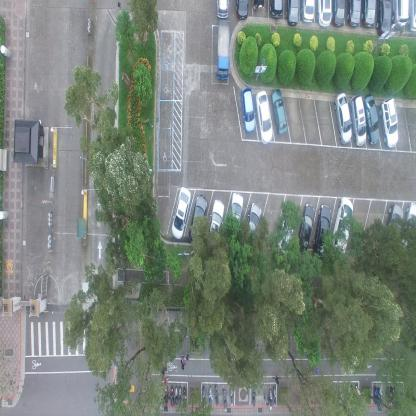car: (332, 195, 353, 253), (170, 184, 191, 240), (312, 203, 332, 259), (384, 201, 404, 254), (378, 96, 398, 148), (188, 193, 208, 245), (225, 191, 244, 245), (255, 91, 274, 144), (277, 204, 296, 257), (333, 92, 352, 144), (296, 203, 315, 255), (242, 202, 262, 251), (361, 93, 379, 145), (348, 95, 366, 147), (216, 21, 231, 81), (270, 89, 289, 136), (207, 199, 225, 245), (400, 201, 416, 252), (241, 88, 256, 134), (376, 0, 392, 39), (392, 0, 408, 34), (316, 0, 332, 29), (285, 0, 300, 29), (361, 0, 375, 30), (347, 0, 361, 29), (332, 0, 346, 27), (301, 0, 315, 25), (236, 0, 249, 22), (408, 0, 416, 34), (269, 0, 283, 19), (217, 0, 229, 20), (251, 0, 265, 13)
